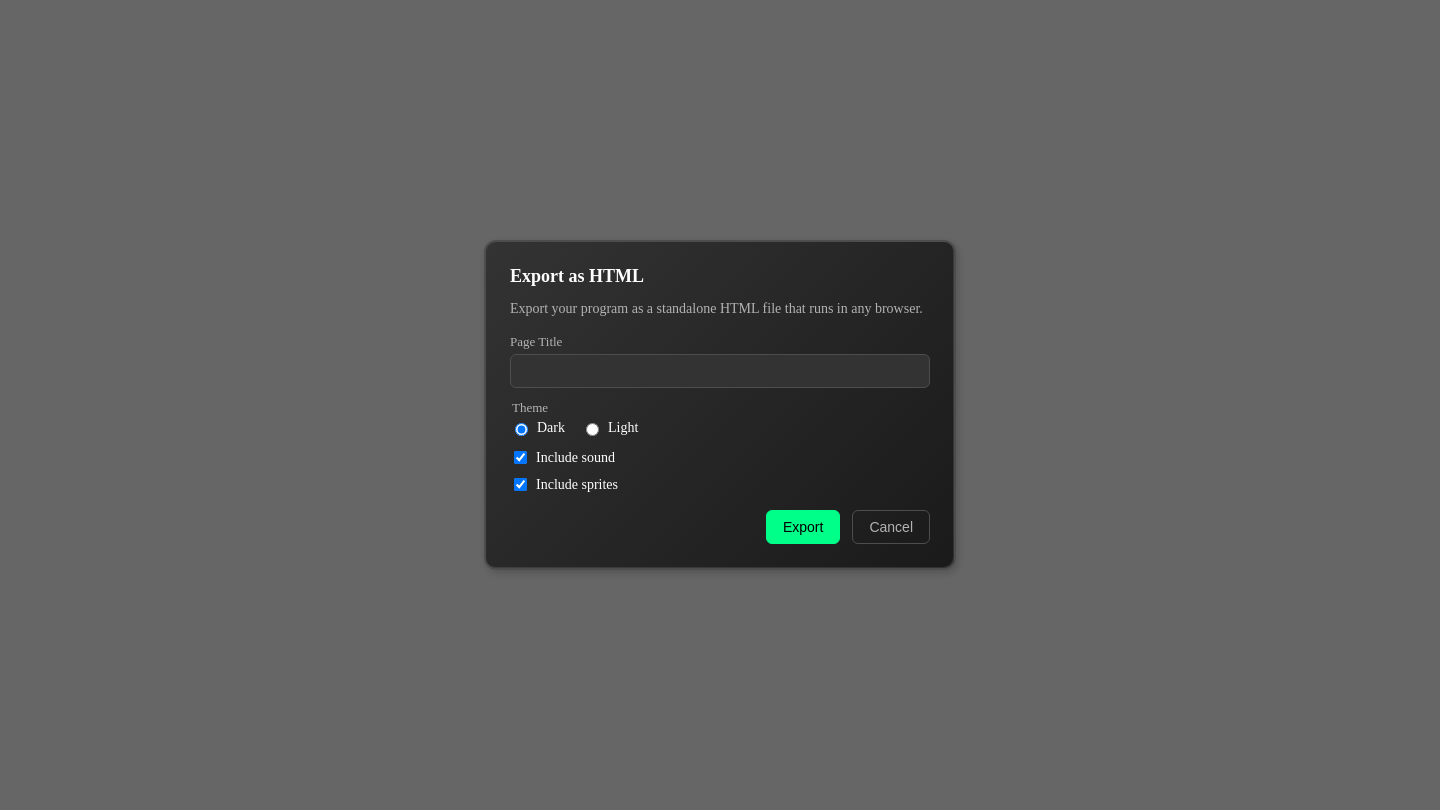
Scenario: ExportHtmlDialog › sound toggle works
Step 1. Click the checkbox with test id "export-html-include-sound" → (520, 458), box [514,451,527,464]
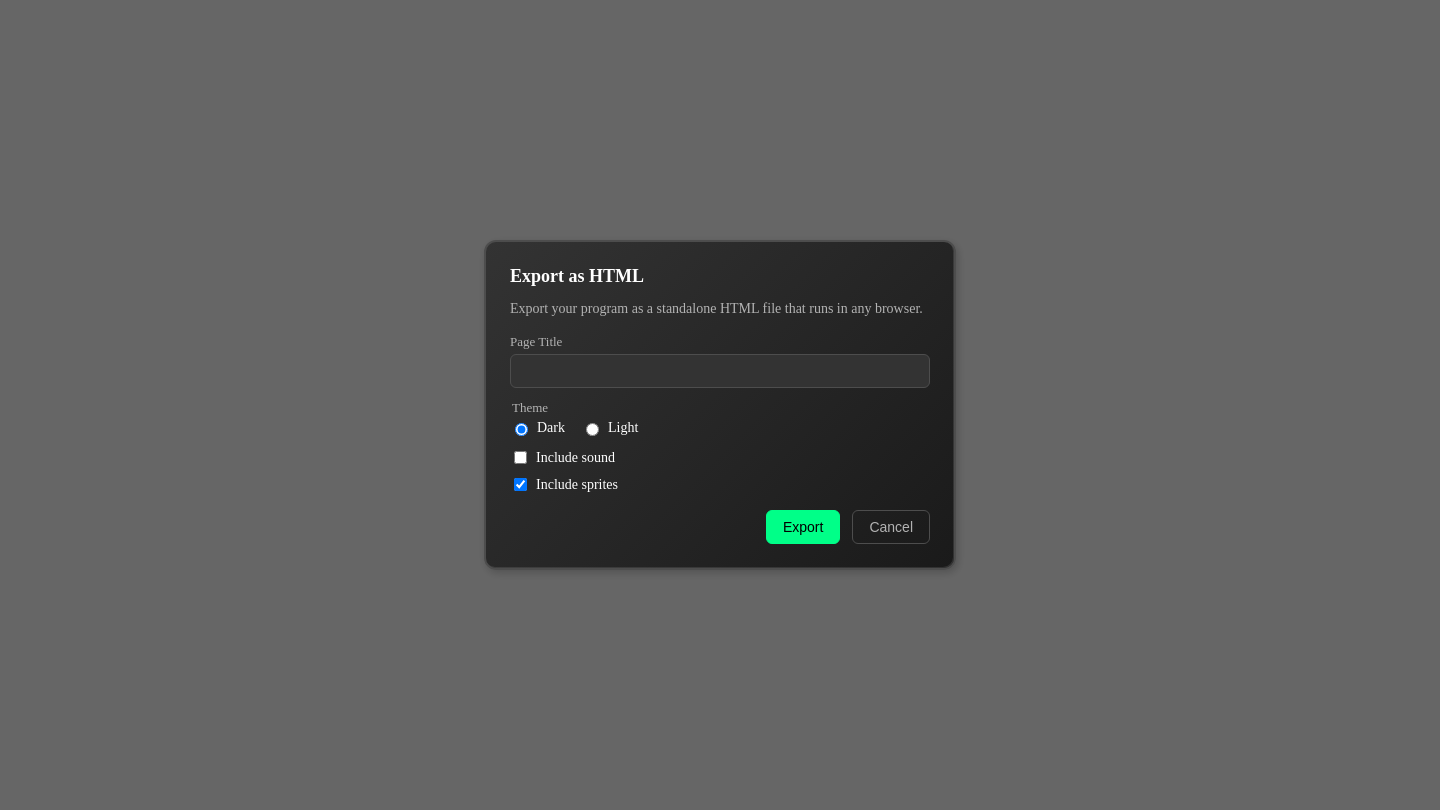
Result: the checkbox with test id "export-html-include-sound" is not checked at [514,451,527,464]
